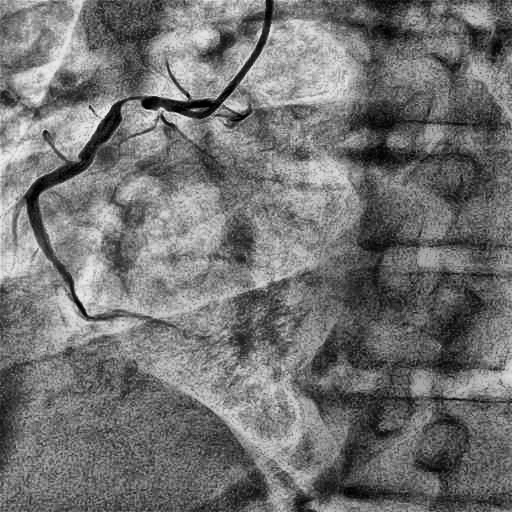rca: (25, 96, 180, 322)
